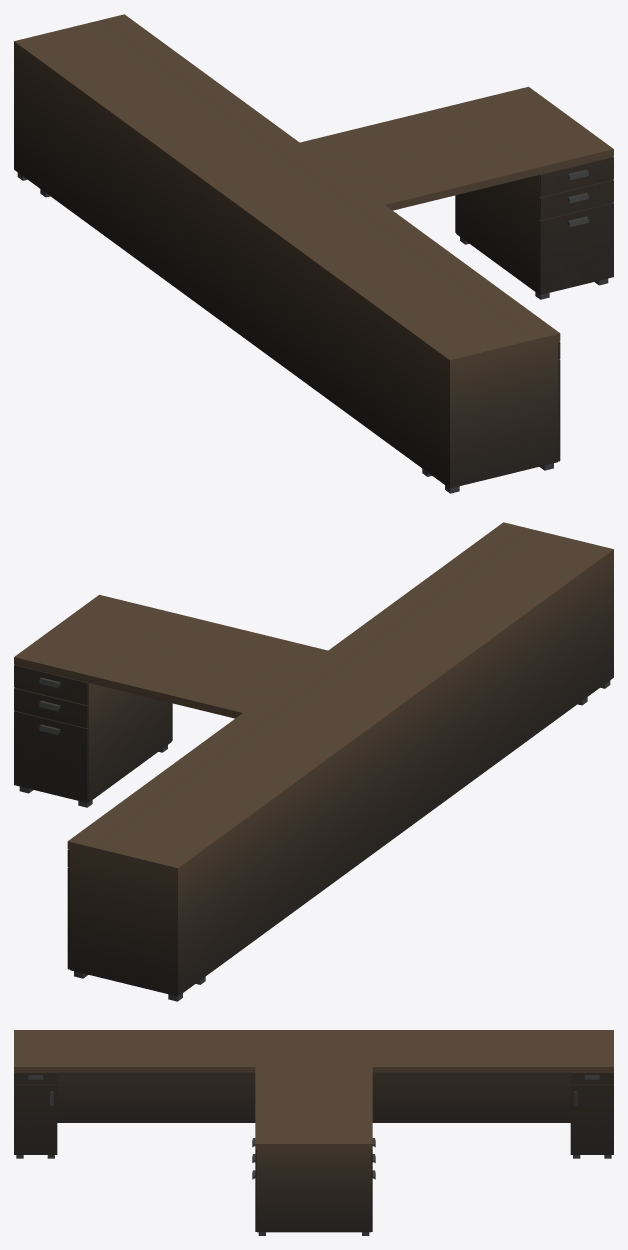
File: Desk_Joined_D.fbx
The picture shows the model from 3 angles, top to bottom: view 1: azimuth 30°, elevation 25°; view 2: azimuth 150°, elevation 25°; view 3: azimuth 270°, elevation 25°; orthographic projection. The views are drawn at different scales.
Visible parts, largest first — view 1: Desk_Joined_D; view 2: Desk_Joined_D; view 3: Desk_Joined_D.
Boxes of the visible parts, x1=… form: Desk_Joined_D: x1=14, y1=14, x2=613, y2=493; Desk_Joined_D: x1=14, y1=522, x2=613, y2=1001; Desk_Joined_D: x1=14, y1=1030, x2=613, y2=1235.
Size of the model in its own units: 184 by 70 by 409.
